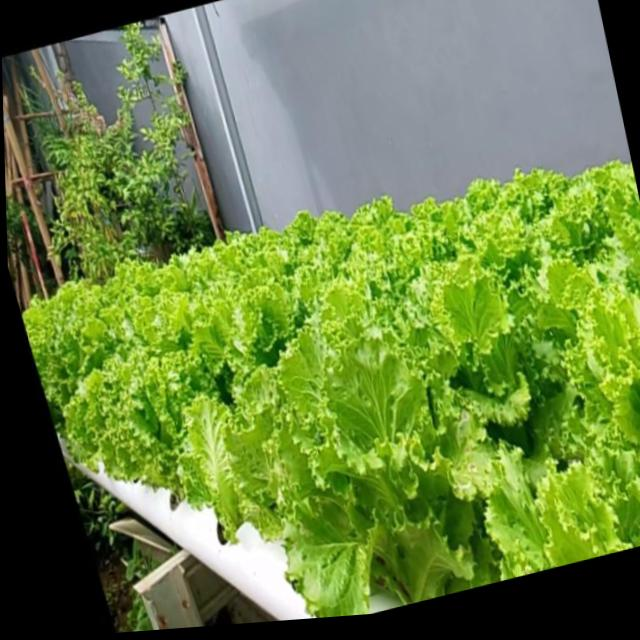Mature: (33, 120, 640, 609), (252, 307, 471, 609), (41, 290, 217, 500)
